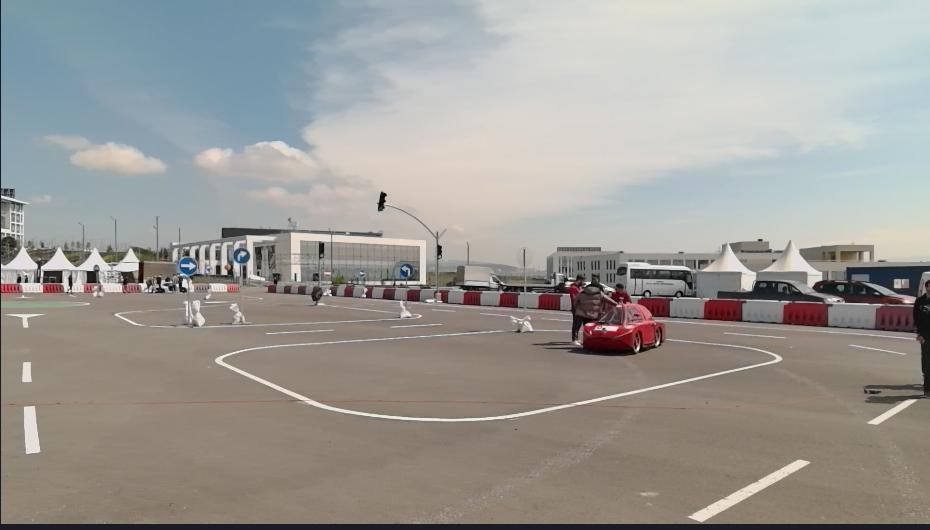nesne: (0, 287, 929, 529), (0, 290, 518, 526), (344, 315, 922, 523), (214, 328, 785, 420), (680, 381, 930, 522), (638, 294, 913, 332), (687, 459, 813, 523), (112, 306, 420, 328), (578, 302, 664, 351), (571, 274, 616, 343), (615, 260, 694, 297), (716, 278, 840, 299), (385, 203, 448, 244), (811, 278, 915, 301), (913, 279, 928, 401), (861, 398, 918, 425), (454, 263, 504, 291), (825, 302, 876, 329), (875, 302, 915, 332), (782, 299, 828, 325), (323, 284, 402, 299), (740, 298, 784, 324), (22, 406, 41, 453), (704, 296, 741, 320), (669, 297, 706, 319), (74, 281, 145, 292), (638, 295, 670, 317), (3, 312, 44, 327), (265, 284, 314, 294), (608, 281, 630, 303), (227, 301, 249, 322), (192, 281, 237, 290), (537, 293, 561, 308), (178, 256, 196, 275), (500, 290, 518, 308), (570, 273, 582, 300), (192, 298, 204, 324), (479, 291, 500, 305), (232, 246, 249, 262), (21, 359, 32, 383), (171, 271, 183, 293), (520, 246, 523, 332), (185, 275, 190, 326), (525, 290, 540, 307), (239, 262, 244, 309), (426, 290, 444, 303), (462, 292, 480, 305), (121, 282, 142, 293), (376, 191, 388, 210), (448, 289, 464, 303), (524, 312, 536, 330), (312, 284, 322, 305), (41, 283, 62, 293), (399, 261, 413, 276), (399, 300, 413, 315), (210, 281, 229, 292), (560, 293, 571, 312), (379, 286, 395, 299), (100, 282, 121, 291), (84, 280, 98, 293), (194, 282, 212, 292), (20, 283, 42, 291), (156, 270, 164, 292), (418, 288, 435, 298), (0, 283, 20, 291), (71, 281, 84, 293), (353, 283, 365, 296), (407, 288, 421, 299), (334, 284, 346, 296), (343, 285, 354, 298), (318, 237, 324, 258), (66, 272, 72, 293), (371, 287, 382, 298), (394, 288, 405, 299), (304, 284, 314, 296), (146, 276, 153, 293), (327, 284, 336, 296), (363, 285, 372, 297), (318, 258, 321, 286), (435, 243, 441, 257), (229, 281, 238, 290), (436, 257, 438, 293), (268, 284, 276, 293), (404, 276, 407, 300), (290, 285, 298, 293), (298, 286, 306, 294), (275, 285, 284, 292), (283, 286, 291, 293)
